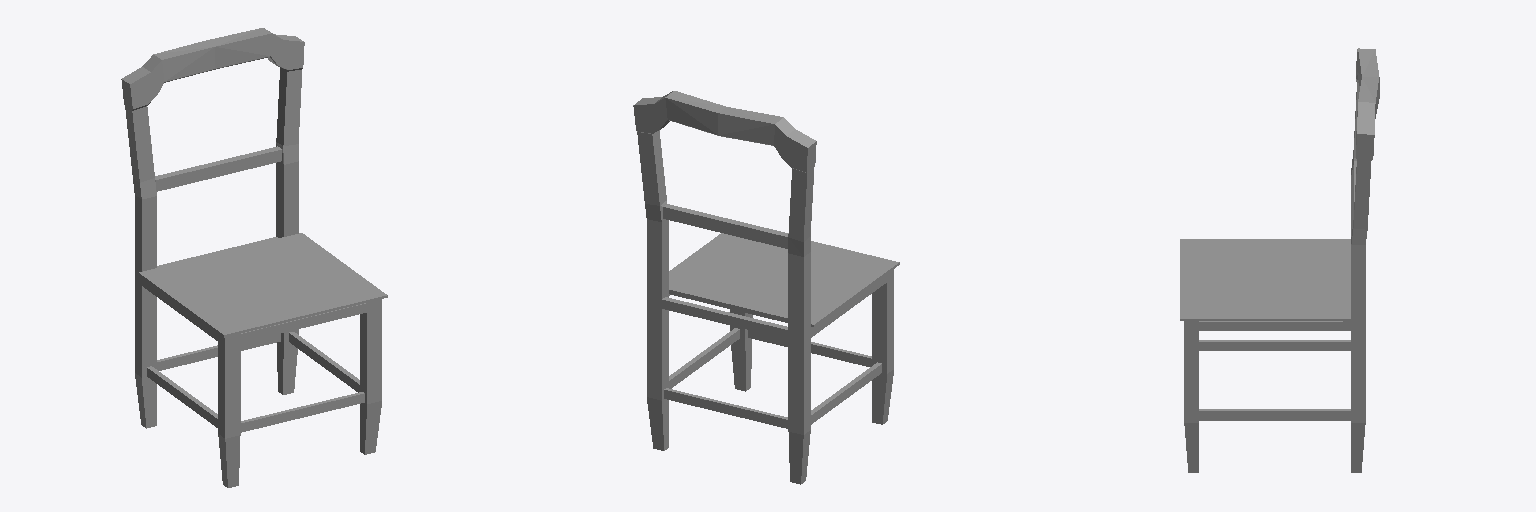
File: Chair.obj
3 views of the same model, side by side, from view 1: azimuth 30°, elevation 25°; view 2: azimuth 150°, elevation 25°; view 3: azimuth 270°, elevation 25° (orthographic).
Visible parts, largest first — view 1: Chair; view 2: Chair; view 3: Chair.
Part boxes in pixels (bbox=[...]): Chair: bbox=[121, 28, 387, 487]; Chair: bbox=[633, 91, 899, 484]; Chair: bbox=[1180, 48, 1379, 472].
Size of the model in its own units: 0.5556 by 1.1 by 0.5486.